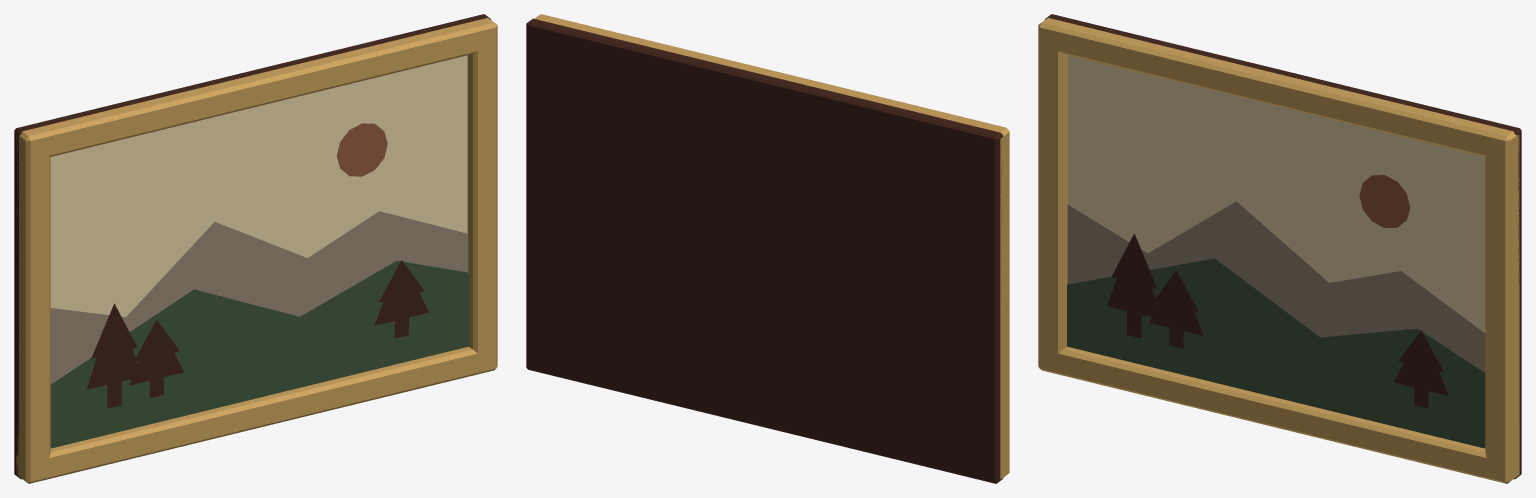
The model's file is painting_01.glb.
3 renders of one model, left to right at view 1: azimuth 30°, elevation 25°; view 2: azimuth 150°, elevation 25°; view 3: azimuth 330°, elevation 25°, orthographic.
Visible parts, largest first — view 1: Sky, GoldFrame, NearHills, DistantHills, Back, Tree_0, Tree_2, Tree_1, Sun; view 2: Back, GoldFrame; view 3: Sky, GoldFrame, NearHills, DistantHills, Back, Tree_0, Tree_2, Tree_1, Sun.
Part boxes in pixels (<box>): Sky: <box>50,55,467,317</box>; GoldFrame: <box>16,18,497,483</box>; NearHills: <box>50,260,468,448</box>; DistantHills: <box>50,211,468,384</box>; Back: <box>14,14,491,479</box>; Tree_0: <box>87,303,137,408</box>; Tree_2: <box>374,260,428,338</box>; Tree_1: <box>129,320,183,398</box>; Sun: <box>337,123,387,176</box>; Back: <box>526,18,1003,483</box>; GoldFrame: <box>534,14,1009,479</box>; Sky: <box>1068,55,1485,332</box>; GoldFrame: <box>1038,18,1519,483</box>; NearHills: <box>1067,258,1485,448</box>; DistantHills: <box>1067,201,1485,372</box>; Back: <box>1044,14,1521,479</box>; Tree_0: <box>1107,233,1157,338</box>; Tree_2: <box>1394,330,1448,408</box>; Tree_1: <box>1149,270,1203,348</box>; Sun: <box>1359,175,1410,228</box>.
Bounding box in the file's own units: 1.35 × 0.95 × 0.0718.
